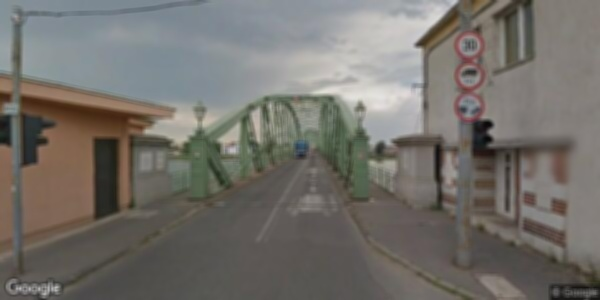b_speed_limit: (454, 30, 484, 60)
f_others: (454, 91, 485, 121), (454, 61, 486, 90)
